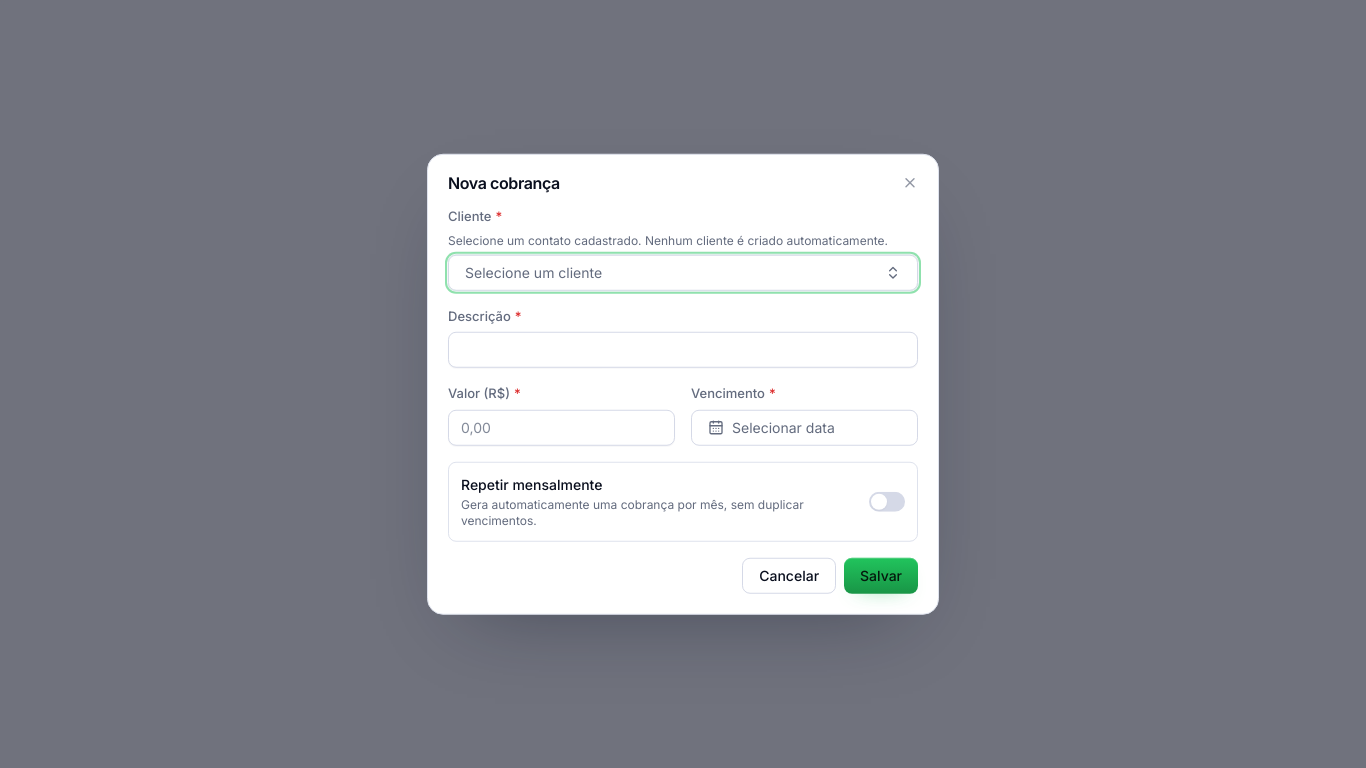
Scenario: ChargeForm clients › shows a clear message when the API fails
Click the dropdown. click: (534, 272)
box: [448,254,918,290]
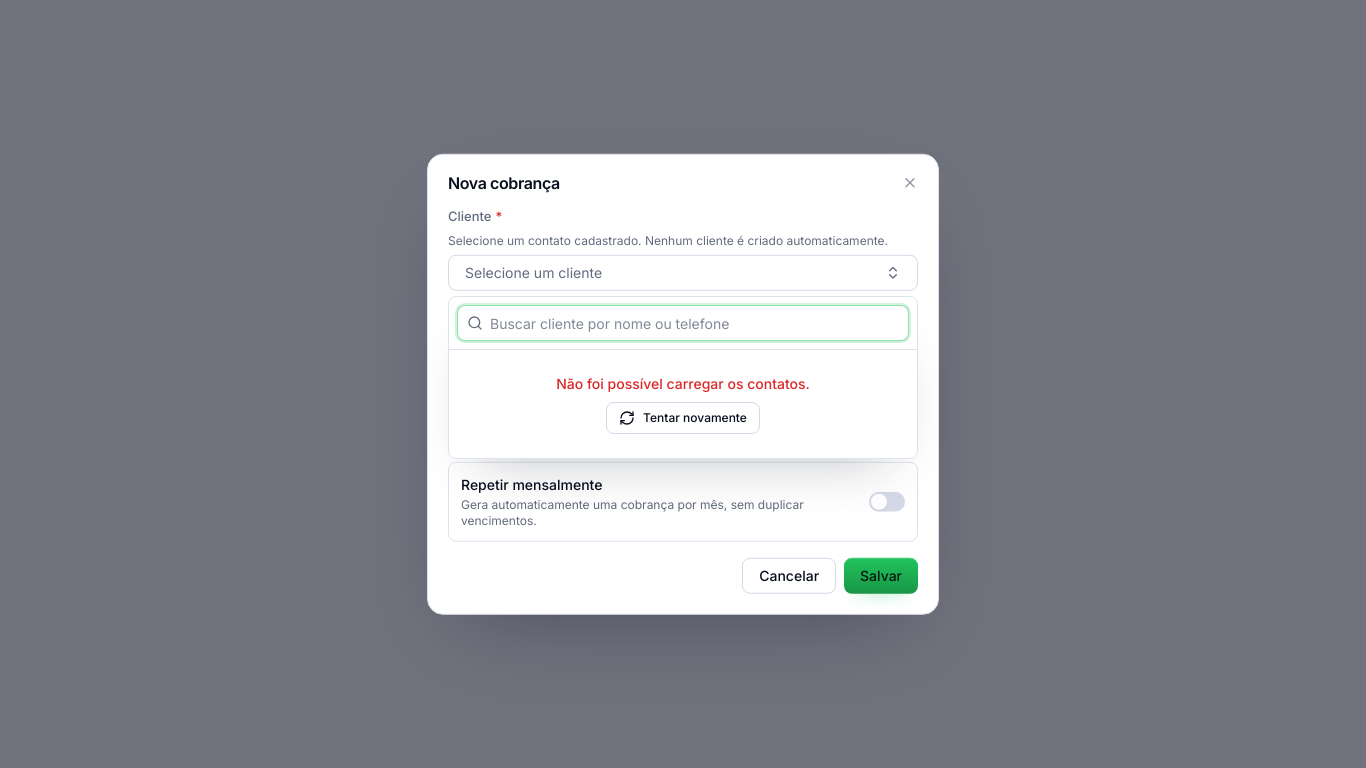
Expected: the text "Não foi possível carregar os contatos." is shown, [556,374,810,394]
